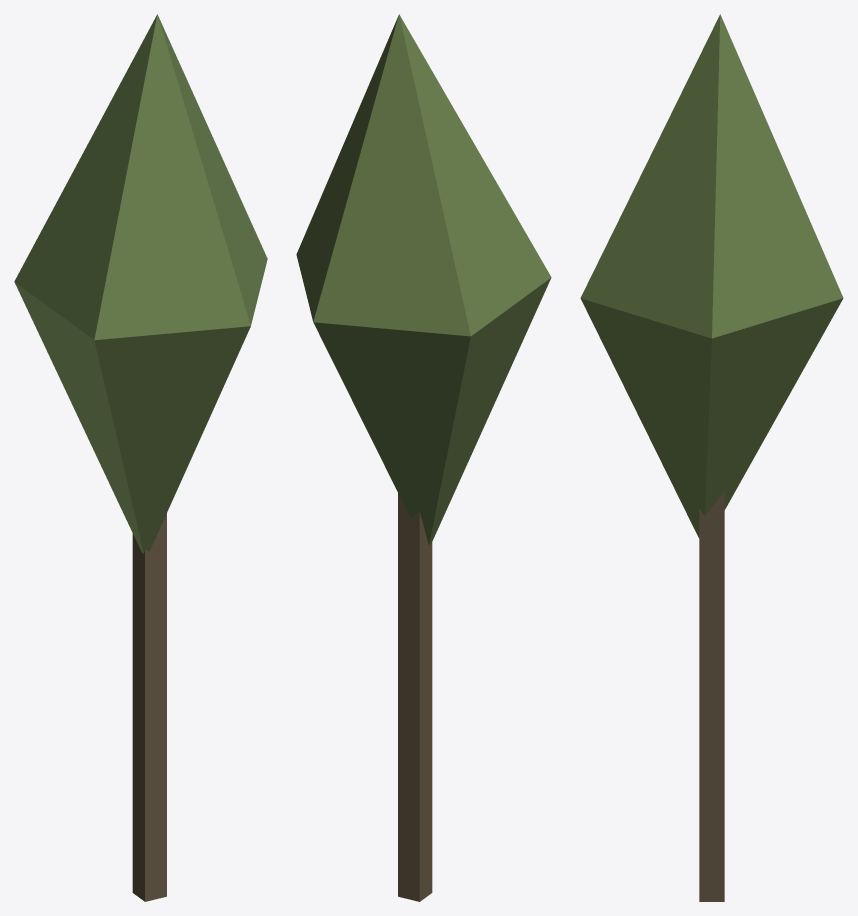
File: ua_poplar_lod.obj
The picture shows the model from 3 angles, left to right: view 1: azimuth 30°, elevation 25°; view 2: azimuth 150°, elevation 25°; view 3: azimuth 270°, elevation 25°; orthographic projection.
Visible parts, largest first — view 1: ua_poplar_lod; view 2: ua_poplar_lod; view 3: ua_poplar_lod.
Boxes of the visible parts, x1=… form: ua_poplar_lod: x1=14, y1=14, x2=267, y2=901; ua_poplar_lod: x1=296, y1=14, x2=551, y2=901; ua_poplar_lod: x1=580, y1=14, x2=843, y2=901.
Bounding box in the file's own units: 1.18 × 4.61 × 1.24.
